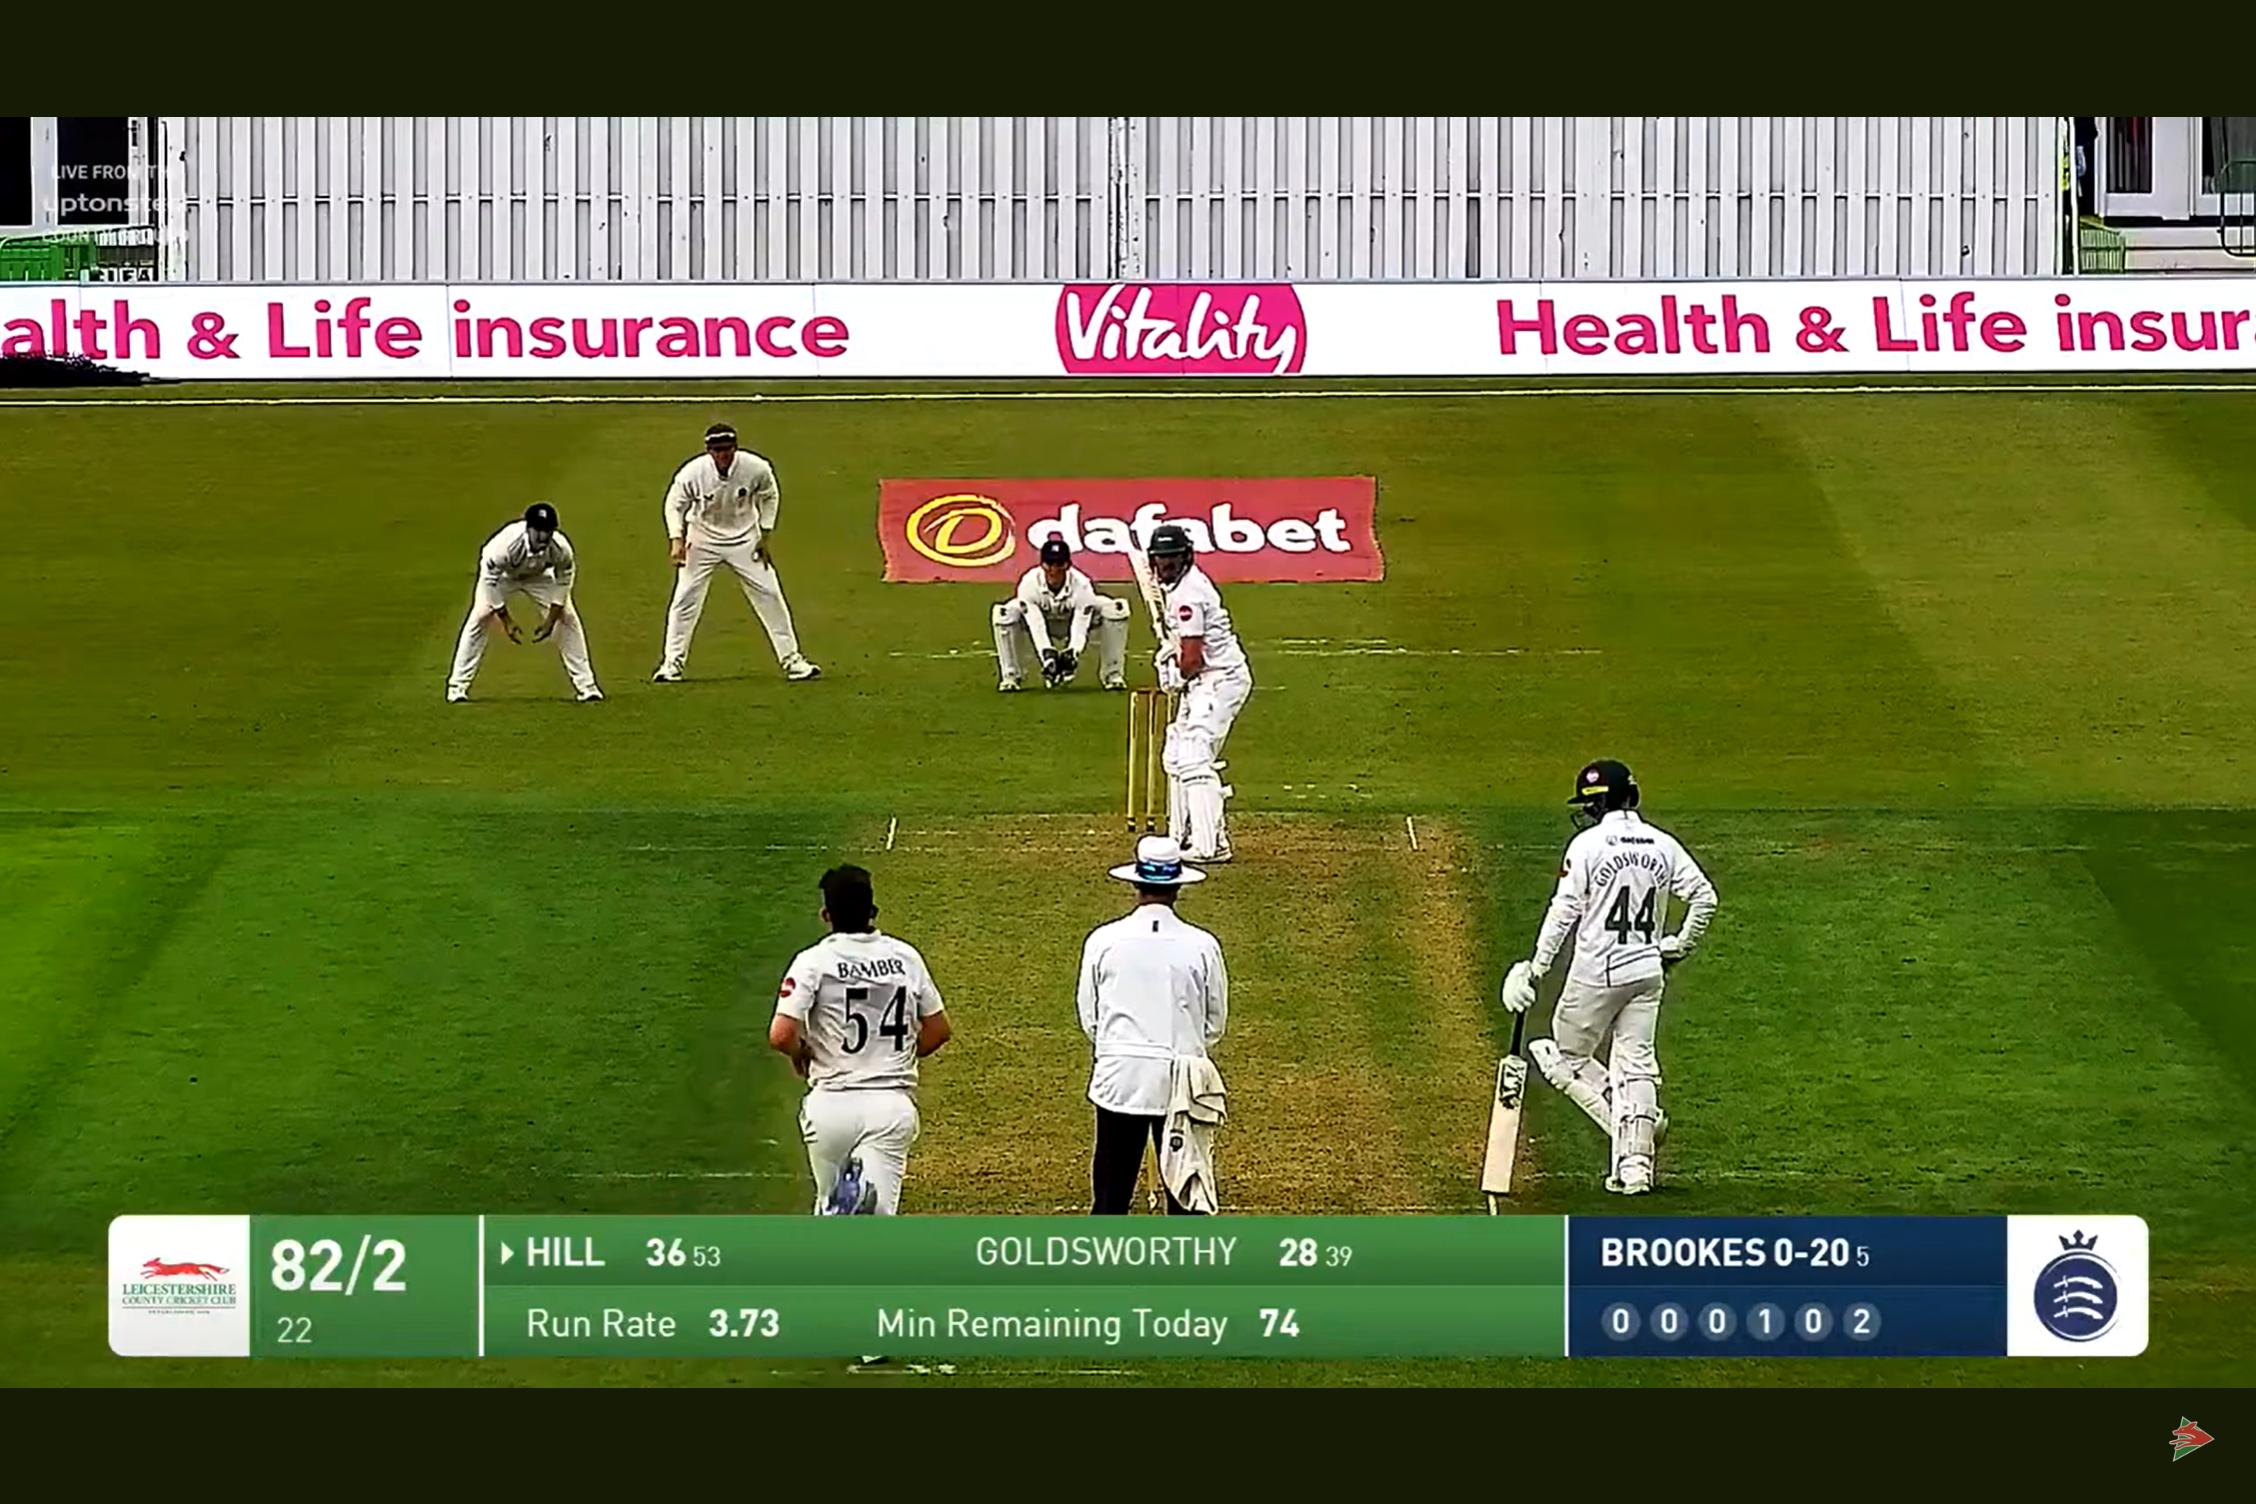batsman: (1140, 534, 1256, 866)
bowler running in: (727, 856, 972, 1214)
non striker: (1462, 728, 1773, 1193)
wicket keeper: (970, 547, 1125, 697)
